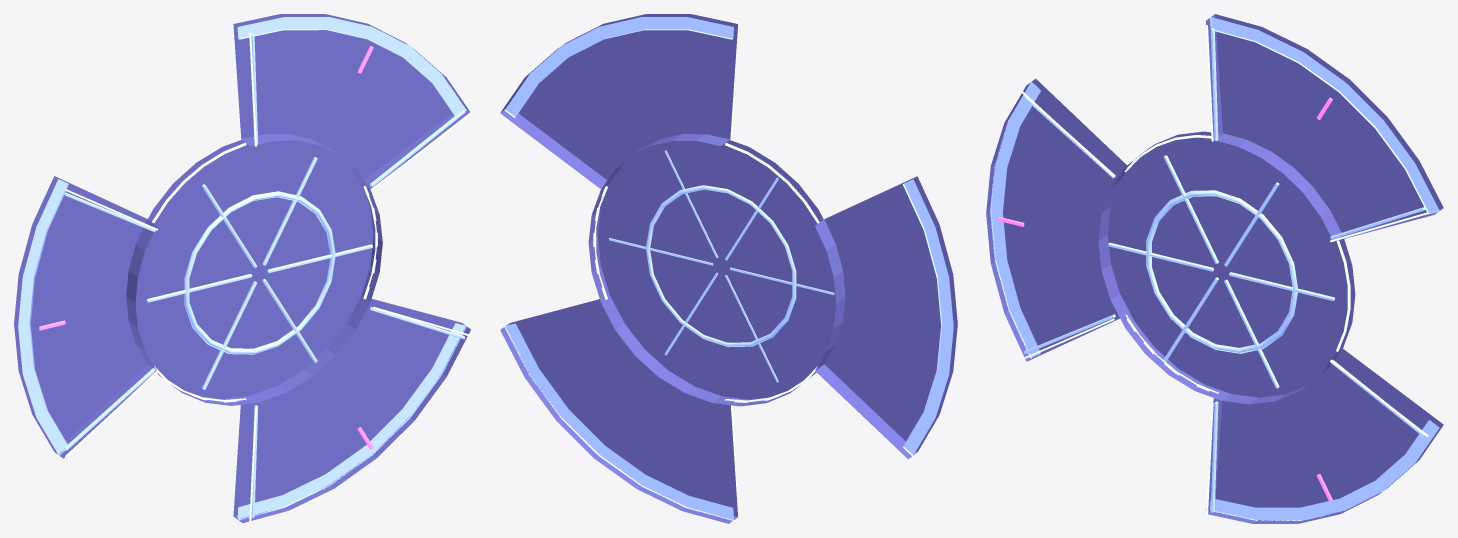
Rendered from prism-panel-fun10-low.glb.
3 renders of one model, left to right at view 1: azimuth 30°, elevation 25°; view 2: azimuth 150°, elevation 25°; view 3: azimuth 330°, elevation 25°, orthographic.
Parts seen in each view (by area): view 1: RENDER_PANEL_SHELL, RENDER_PANEL_FRAME, RENDER_PANEL_SIGNAL; view 2: RENDER_PANEL_SHELL, RENDER_PANEL_FRAME, RENDER_PANEL_SIGNAL; view 3: RENDER_PANEL_SHELL, RENDER_PANEL_FRAME, RENDER_PANEL_SIGNAL.
Part boxes in pixels (left/top/right/bottom): RENDER_PANEL_SHELL: left=14, top=14, right=470, bottom=522; RENDER_PANEL_FRAME: left=18, top=17, right=466, bottom=520; RENDER_PANEL_SIGNAL: left=65, top=32, right=471, bottom=523; RENDER_PANEL_SHELL: left=500, top=14, right=957, bottom=523; RENDER_PANEL_FRAME: left=504, top=17, right=953, bottom=520; RENDER_PANEL_SIGNAL: left=593, top=21, right=922, bottom=511; RENDER_PANEL_SHELL: left=986, top=14, right=1443, bottom=523; RENDER_PANEL_FRAME: left=990, top=17, right=1439, bottom=520; RENDER_PANEL_SIGNAL: left=1021, top=25, right=1428, bottom=516.
Size of what is drawn, in the model's own units: 38.93 by 40.9 by 1.95.
